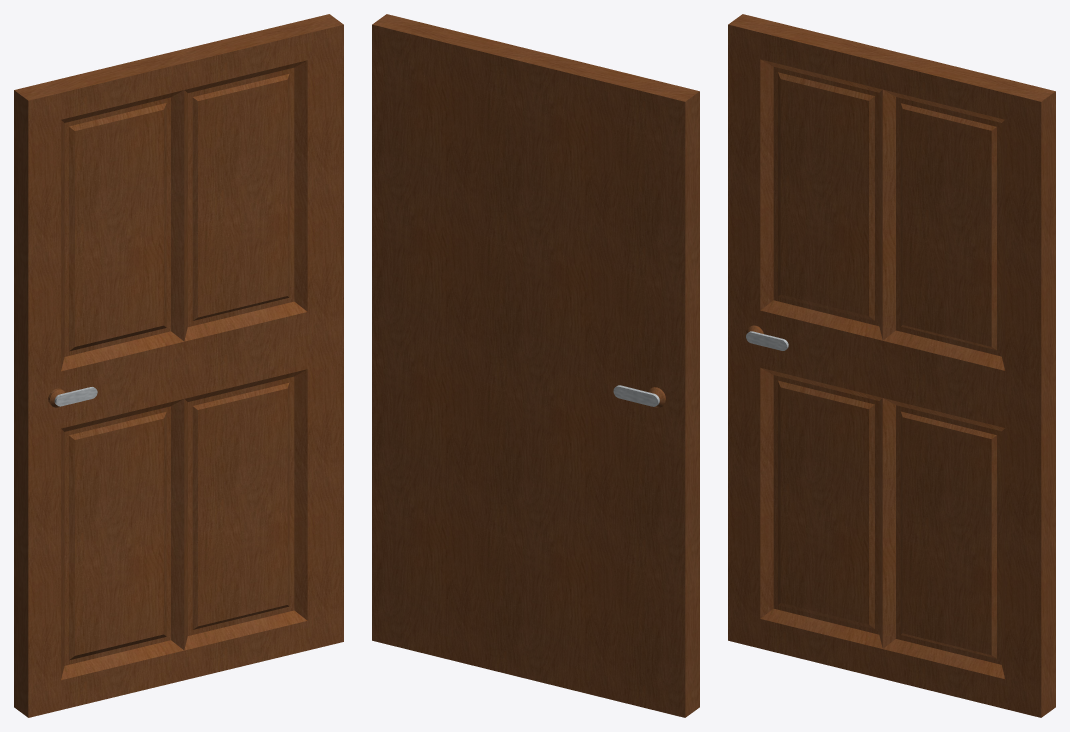
Rendered from door.glb.
3 views of the same model, side by side, from view 1: azimuth 30°, elevation 25°; view 2: azimuth 150°, elevation 25°; view 3: azimuth 330°, elevation 25° (orthographic).
Visible parts, largest first — view 1: Object_5, Object_7, Object_4; view 2: Object_5, Object_4; view 3: Object_5, Object_7, Object_4.
Boxes of the visible parts, x1,y1,x2,y2 form: Object_5: (14,14,343,717); Object_7: (48,369,307,680); Object_4: (54,387,97,406); Object_5: (372,14,699,717); Object_4: (613,385,659,406); Object_5: (728,14,1055,717); Object_7: (749,91,1055,717); Object_4: (746,331,788,350).
Size of the model in its own units: 1.13 by 2.11 by 0.1476.
6 materials, 5 textured.
